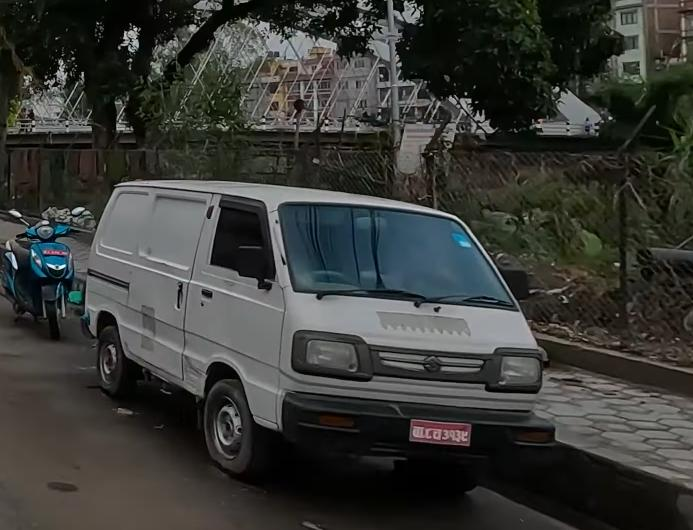scooter: (2, 204, 81, 344)
van: (78, 166, 559, 504)
